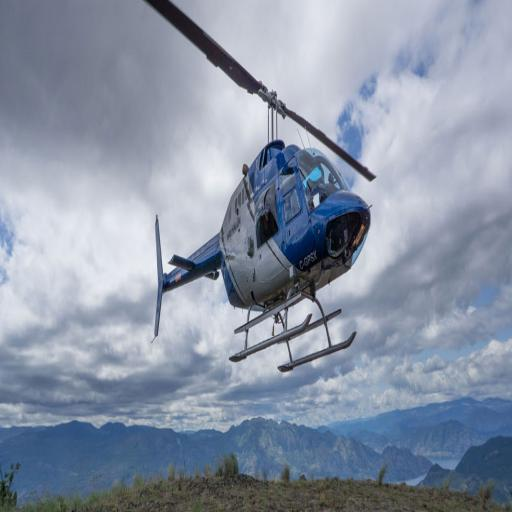helicopter: (144, 2, 379, 377)
